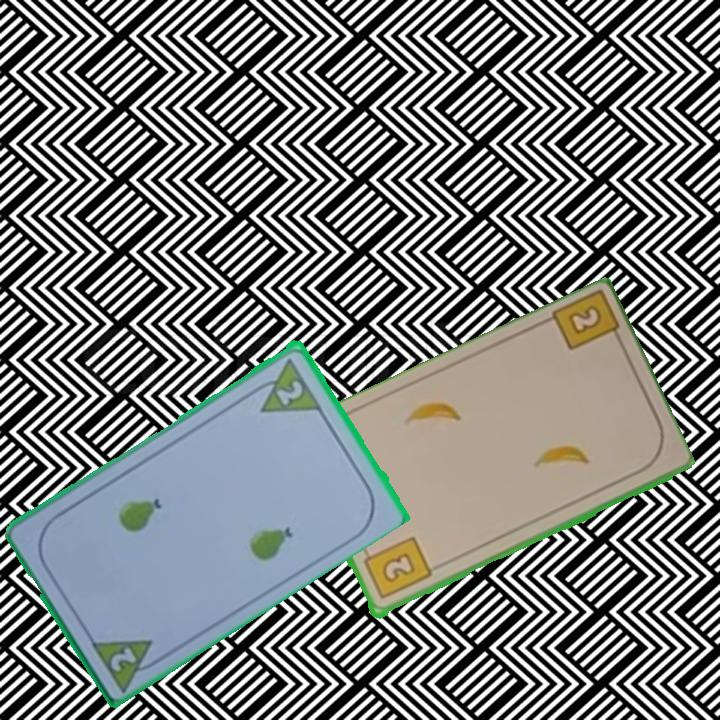2b: (359, 533, 434, 603), (546, 290, 626, 354)
2p: (86, 634, 166, 693), (273, 375, 307, 408)
